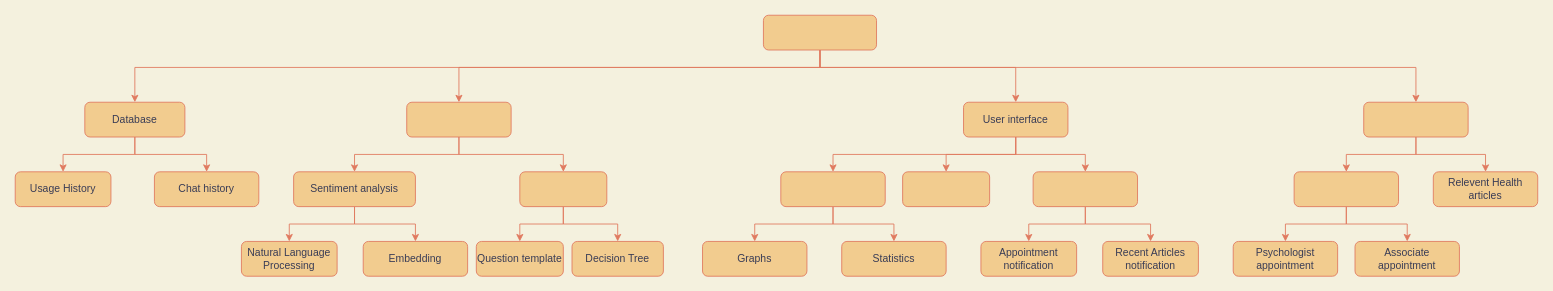
This 1553x291 diagram has some shape labels left out. Each missing label, with the box of its shape:
AI model: (406, 101, 511, 137)
Appointment: (1293, 171, 1399, 207)
Chat Interface: (902, 171, 990, 207)
Health care applicaton: (763, 14, 877, 50)
Mood Tracker: (780, 171, 885, 207)
Notification: (1032, 171, 1138, 207)
Recommendations: (1363, 101, 1468, 137)
Template based analysis: (519, 171, 607, 207)
